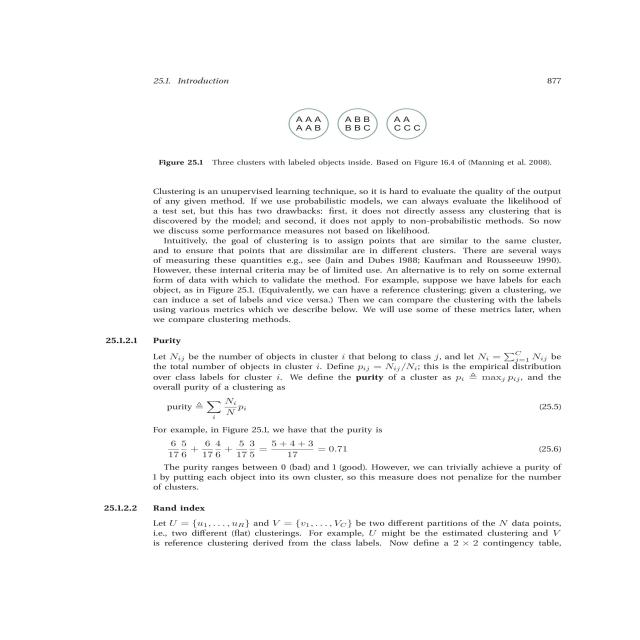diagram: (108, 88, 575, 186)
